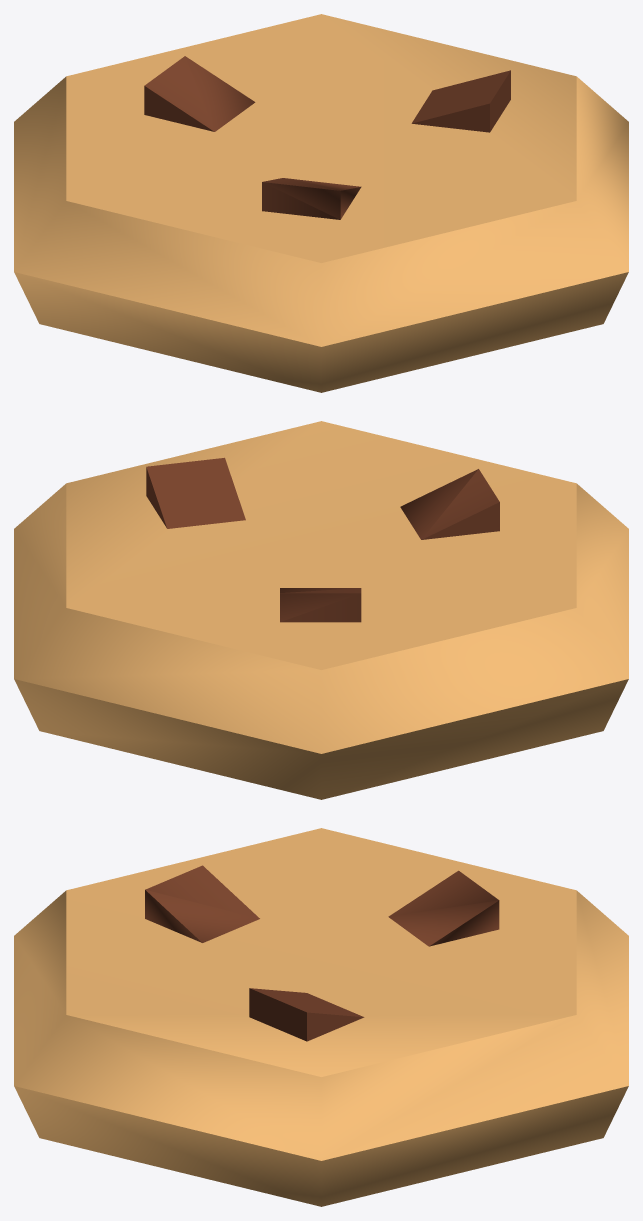
File: cookie.glb
3 renders of one model, top to bottom at view 1: azimuth 30°, elevation 25°; view 2: azimuth 150°, elevation 25°; view 3: azimuth 270°, elevation 25°, orthographic.
Visible parts, largest first — view 1: cookie; view 2: cookie; view 3: cookie.
Boxes of the visible parts, box(x1,y1,x2,y2) form: cookie: box(14, 14, 628, 392); cookie: box(14, 421, 628, 799); cookie: box(14, 828, 628, 1206).
Size of the model in its own units: 0.2197 by 0.0498 by 0.1903.
Materials: 1 (1 with a texture image).
